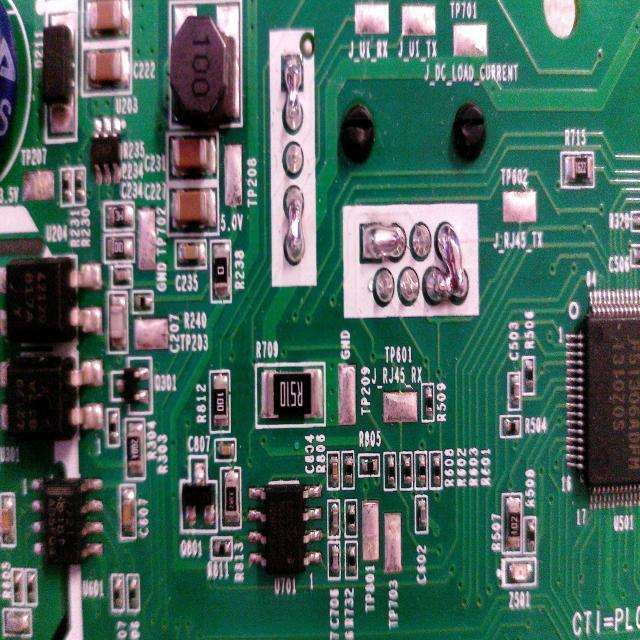Soldering shorted: (422, 221, 470, 304), (354, 210, 407, 266), (282, 180, 309, 274), (281, 50, 304, 134)
